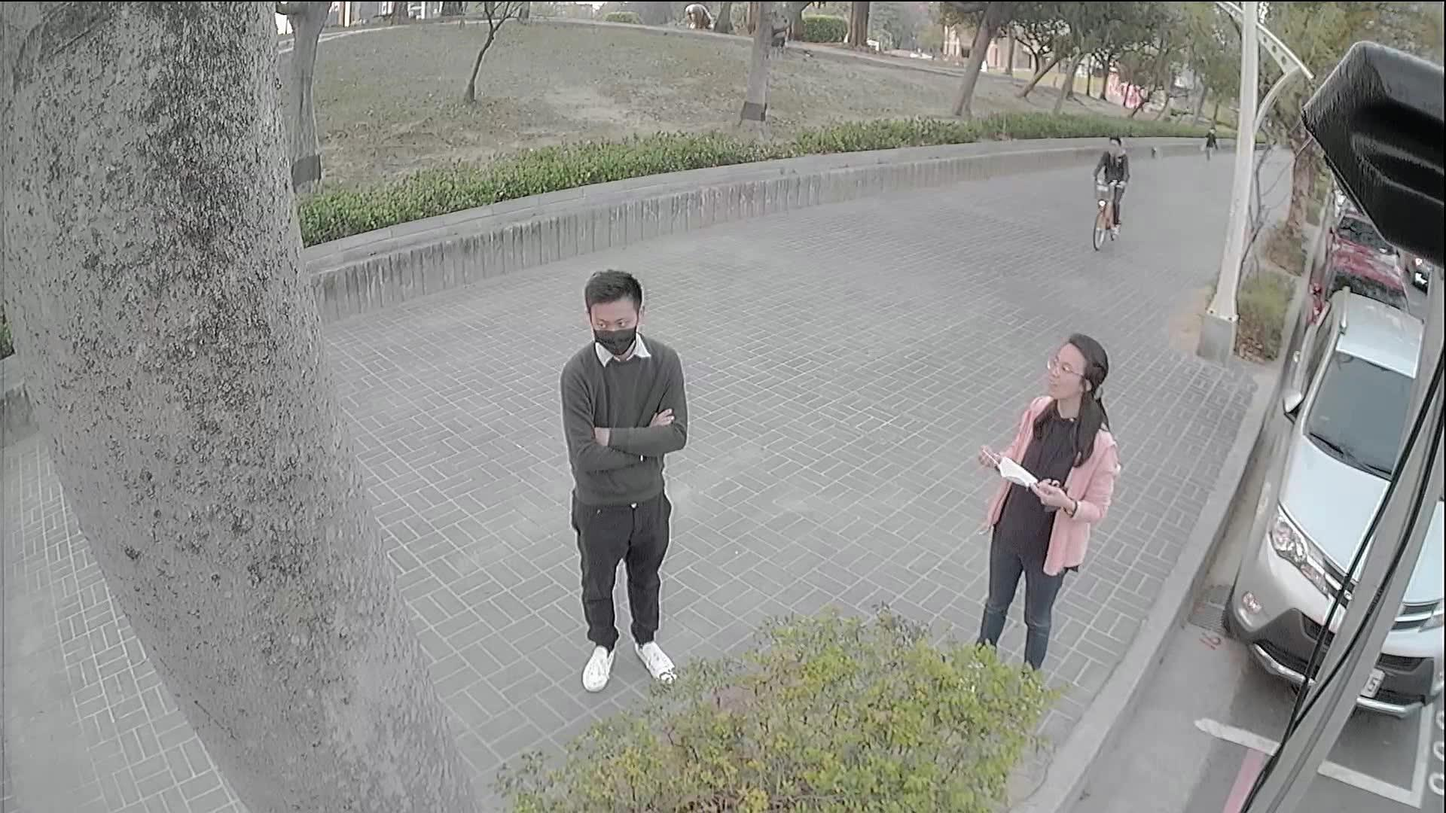person: (561, 273, 685, 684), (974, 333, 1121, 677), (1089, 129, 1133, 233)
